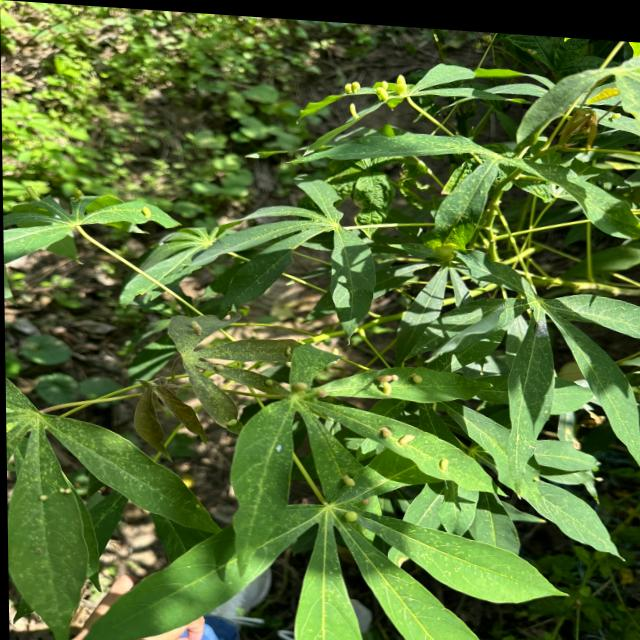Mosca: (360, 367, 437, 404), (374, 419, 419, 452), (290, 371, 335, 403), (276, 331, 307, 376), (344, 218, 377, 248), (160, 371, 200, 392), (439, 451, 468, 479), (335, 505, 368, 528), (181, 312, 204, 345), (262, 433, 294, 456), (338, 466, 361, 496), (329, 351, 352, 381)
